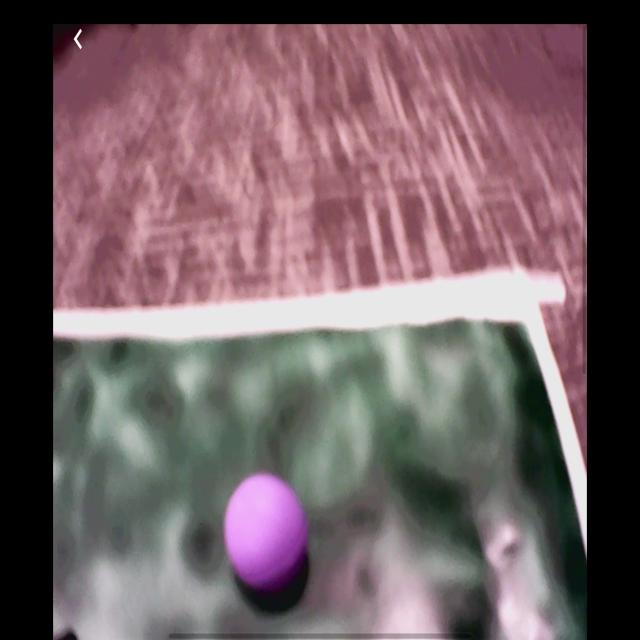ball: (225, 473, 311, 591)
